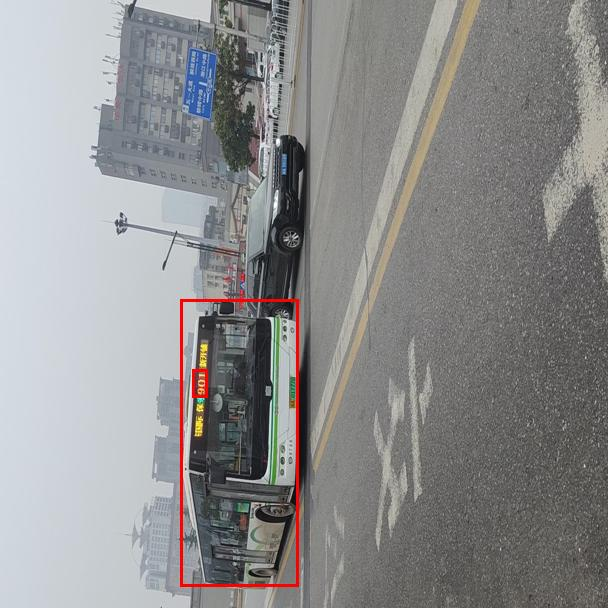bus: (180, 299, 298, 586)
screen: (192, 369, 207, 397)
